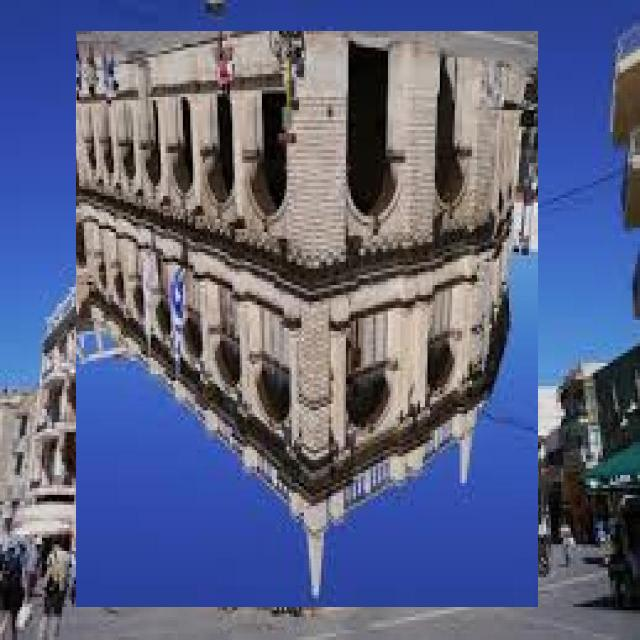Loggia: (77, 32, 539, 608)
